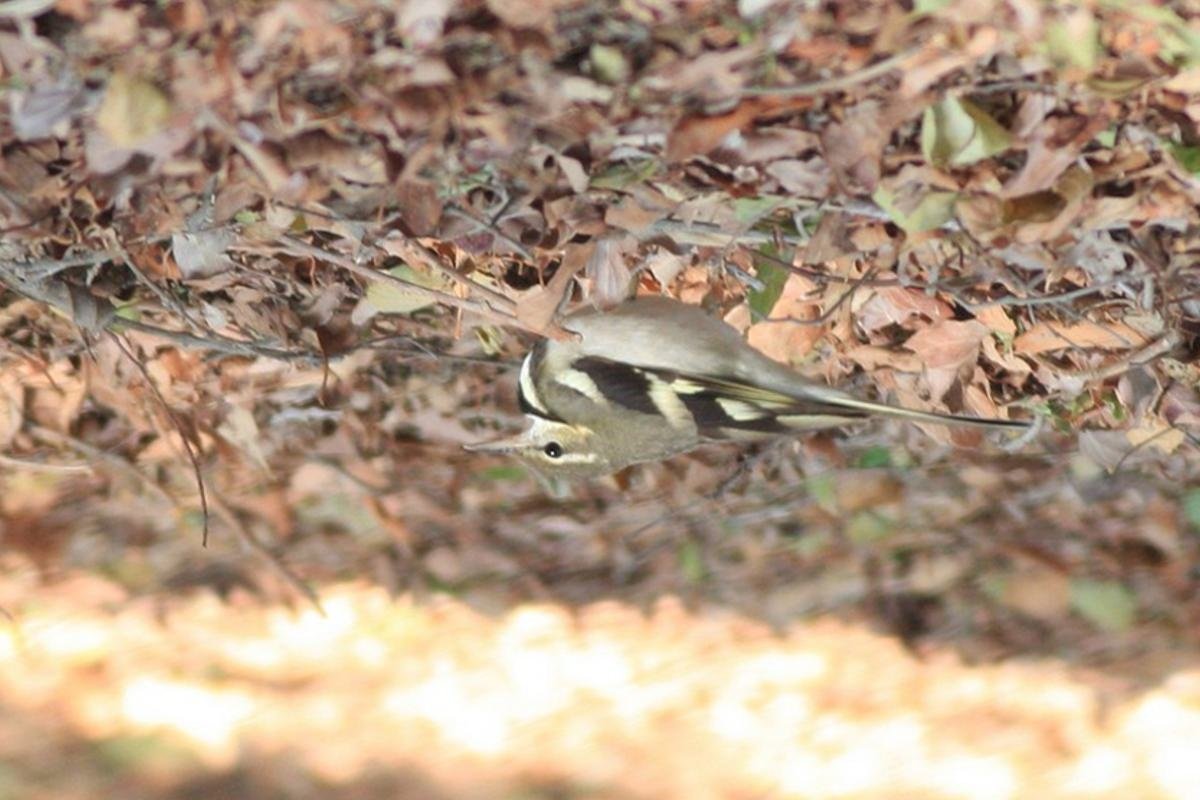wagtail: (444, 260, 1048, 493)
